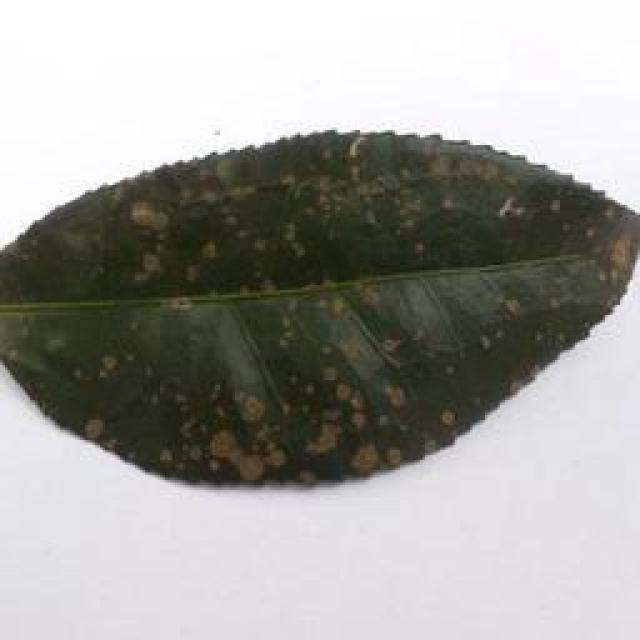Algal Leaf Spot: (0, 125, 640, 505)
